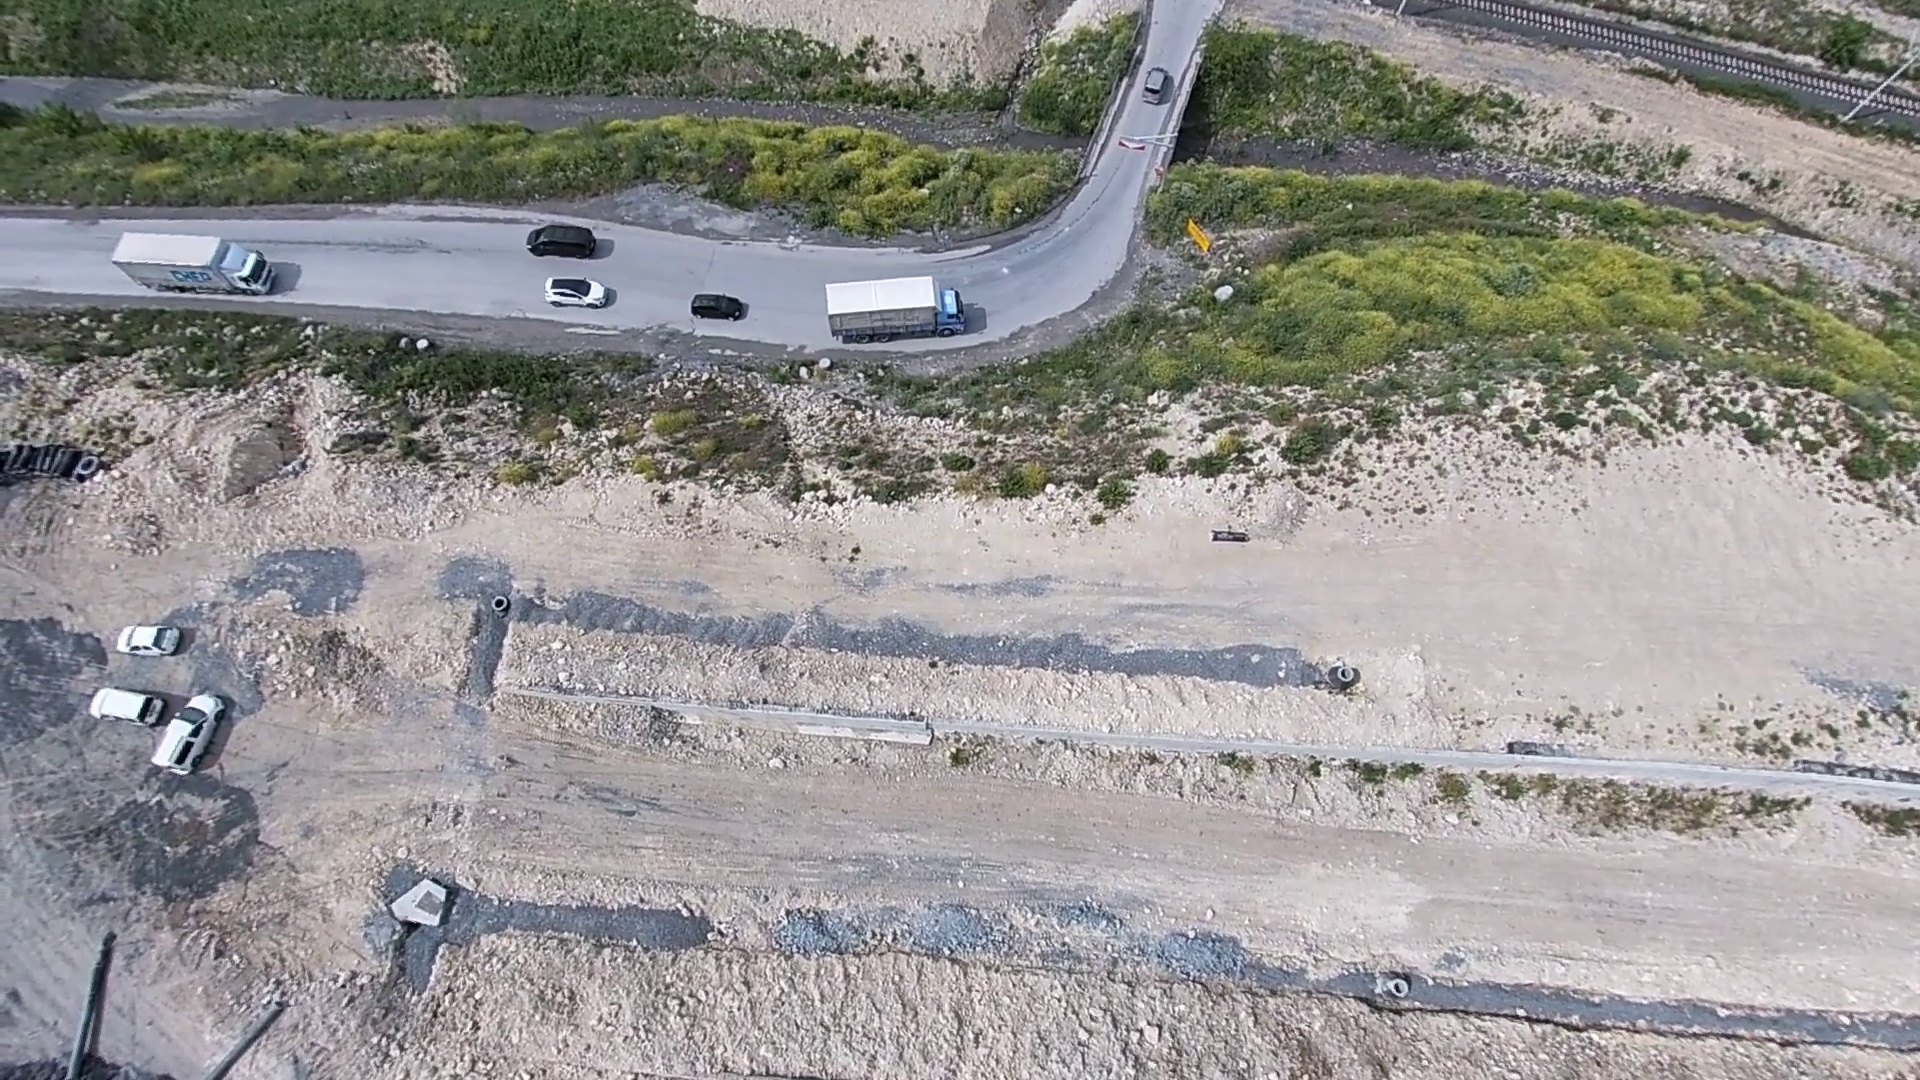arac: (111, 224, 274, 298), (822, 269, 968, 347), (149, 690, 227, 781), (80, 679, 161, 728), (524, 218, 603, 258), (112, 616, 182, 661), (539, 274, 613, 311), (686, 291, 748, 320), (1138, 66, 1175, 105)
